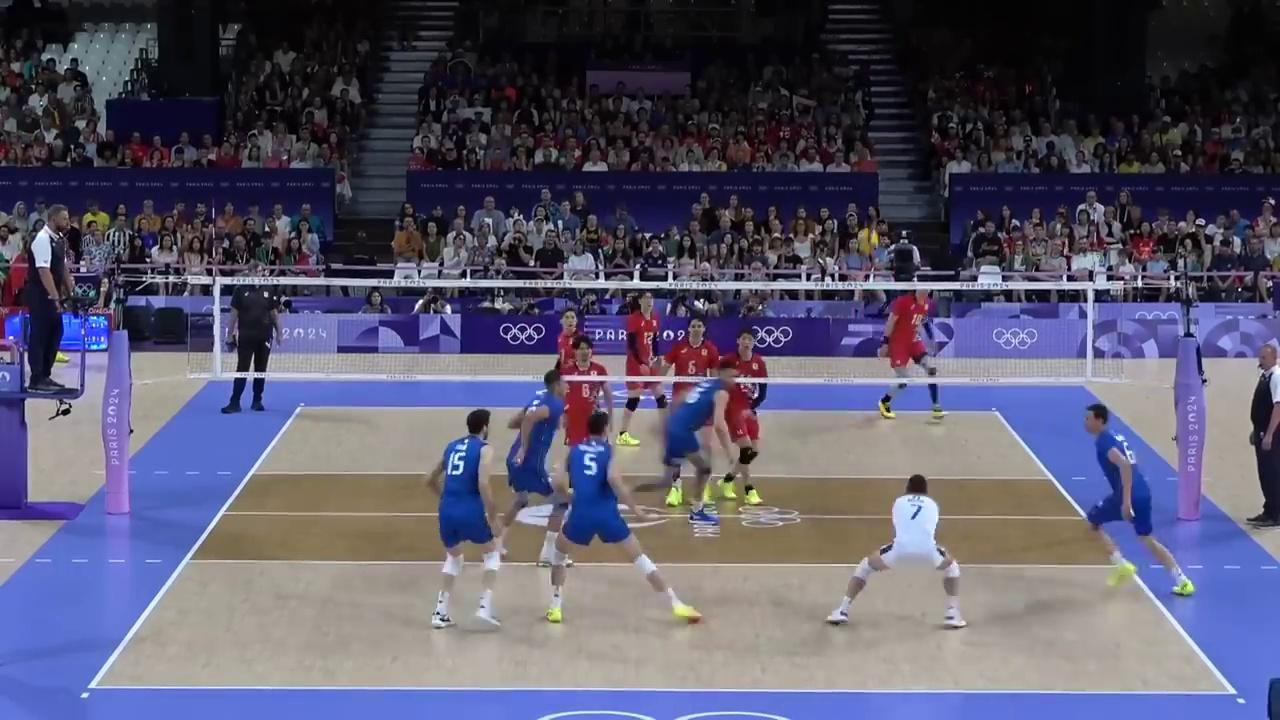ball: (853, 227, 881, 257)
